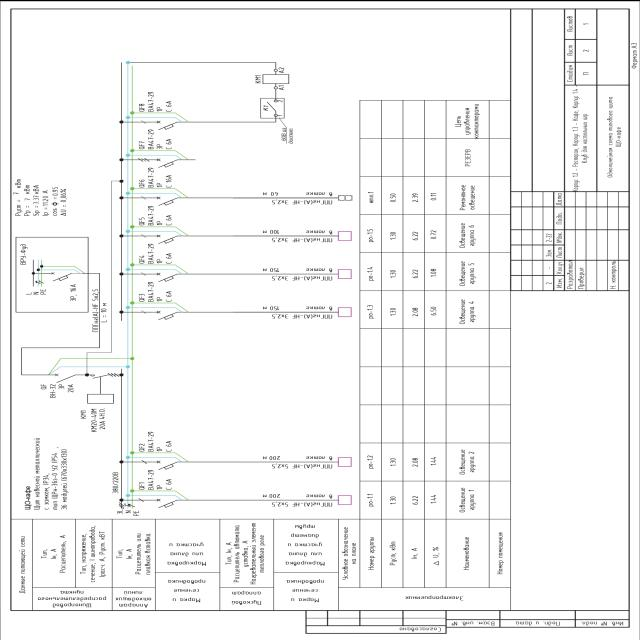-: (24, 434, 72, 509), (147, 166, 176, 188), (146, 242, 176, 263), (146, 280, 174, 302), (147, 91, 176, 112), (146, 468, 174, 489), (147, 204, 175, 225), (147, 431, 175, 452), (148, 128, 175, 149), (49, 382, 74, 398), (90, 407, 106, 432), (253, 74, 262, 84)
KM: (86, 372, 116, 404), (261, 72, 290, 84)
QF: (153, 458, 177, 471), (154, 270, 178, 282), (153, 118, 177, 130), (154, 194, 178, 206), (154, 231, 178, 243), (154, 308, 178, 320), (154, 496, 178, 508), (154, 156, 178, 168)
QS: (53, 372, 77, 383)
